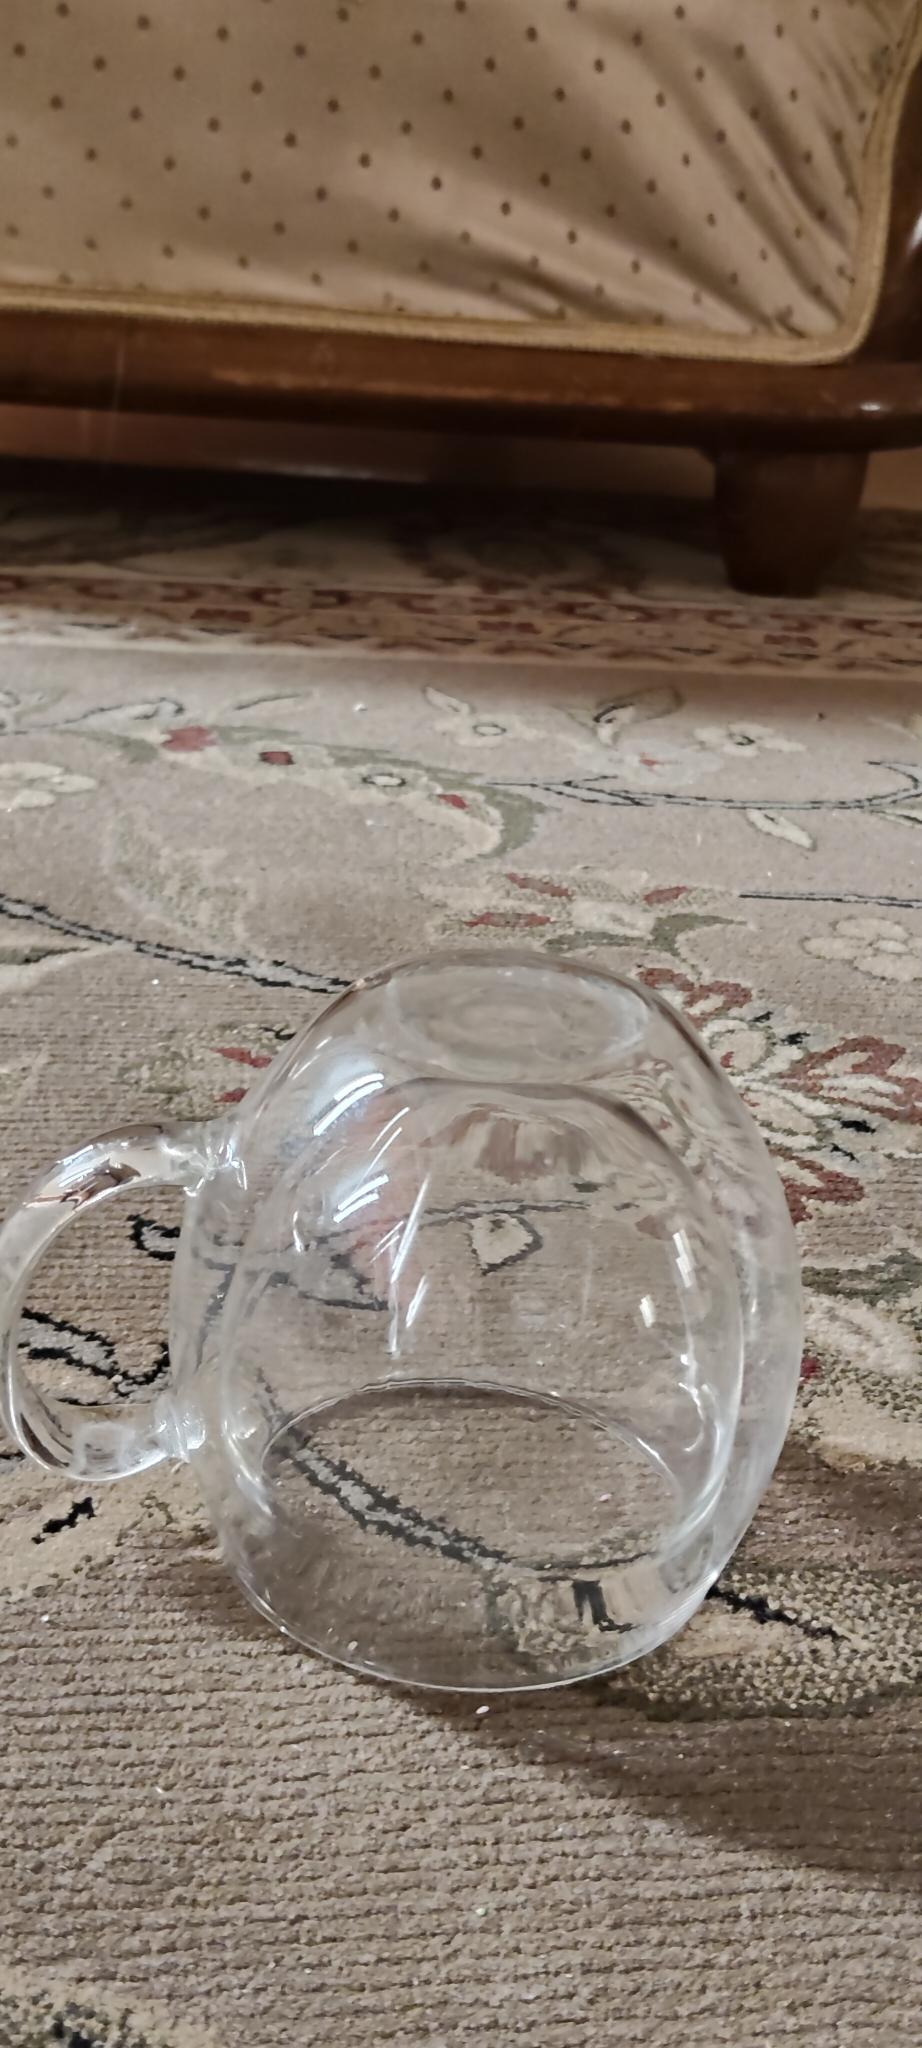Mug: (0, 942, 810, 1697)
